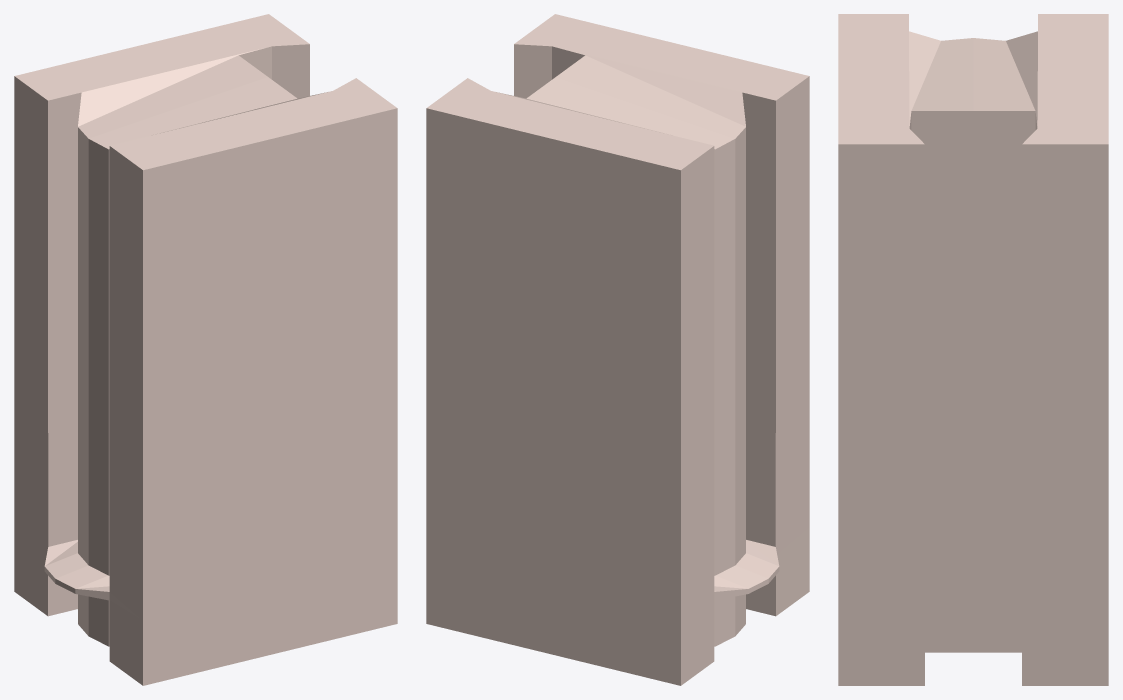
File: Edificio001.FBX
3 renders of one model, left to right at view 1: azimuth 30°, elevation 25°; view 2: azimuth 150°, elevation 25°; view 3: azimuth 270°, elevation 25°, orthographic. The views are drawn at different scales.
Visible parts, largest first — view 1: Edificio001; view 2: Edificio001; view 3: Edificio001.
Boxes of the visible parts, x1,y1,x2,y2 form: Edificio001: [14, 14, 397, 685]; Edificio001: [426, 14, 809, 685]; Edificio001: [838, 14, 1108, 685].
Bounding box in the file's own units: 890 × 1578 × 714.
